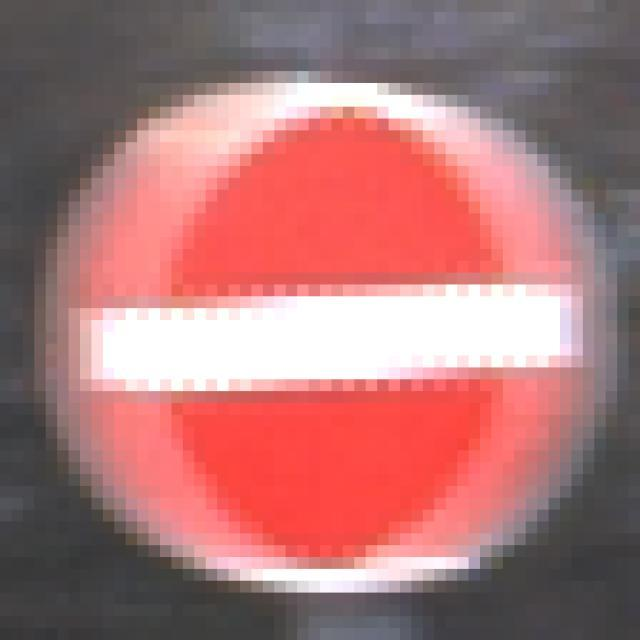no entry: (46, 65, 620, 587)
